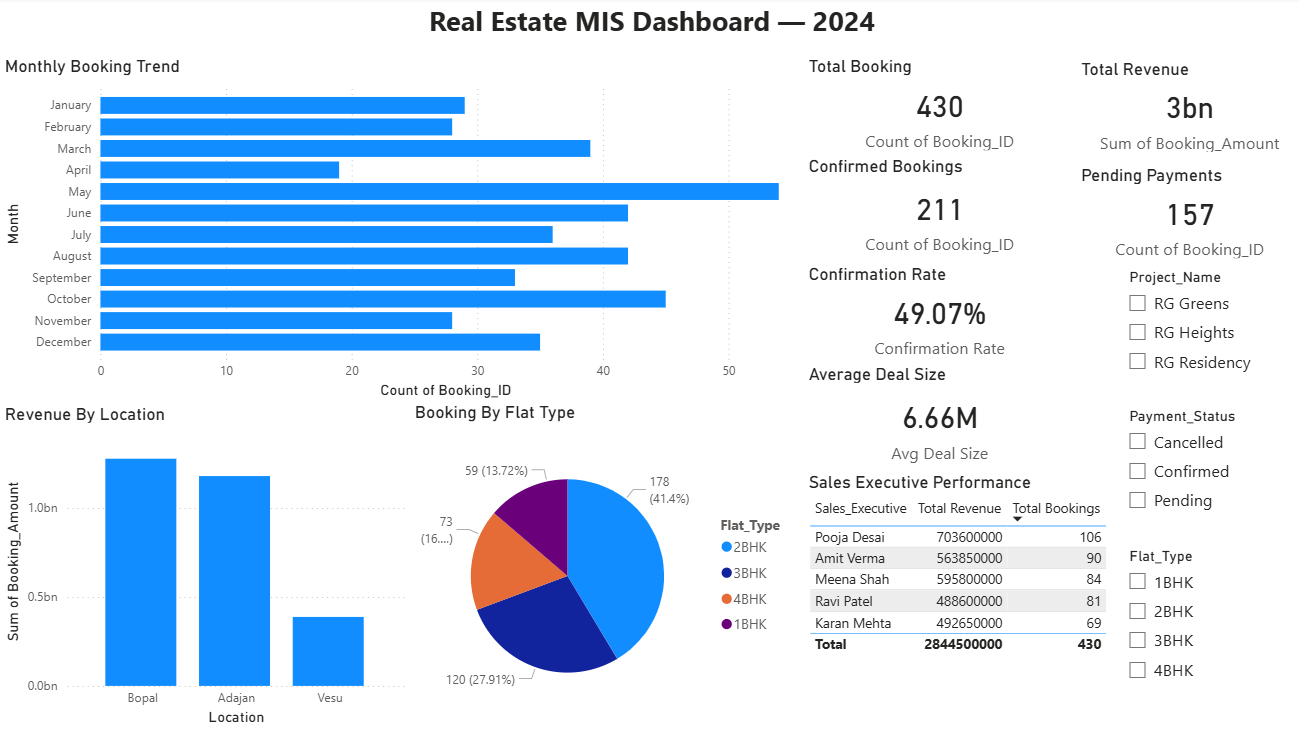

The page's visual inventory and layout, read from the dashboard file:
{"tool":"powerbi","page":{"name":"Page 1","canvas":[1280,720],"ordinal":0},"visuals":[{"type":"card","title":"Total Revenue","fields":{"Values":["Sum(Cleaned Data.Booking_Amount)"]},"box":[1018.2,59.6,261.8,97.5],"z":0},{"type":"card","title":"Total Booking","fields":{"Values":["CountNonNull(Cleaned Data.Booking_ID)"]},"box":[765.1,58.2,254.5,97.5],"z":1000},{"type":"card","title":"Confirmed Bookings ","fields":{"Values":["CountNonNull(Cleaned Data.Booking_ID)"]},"box":[757.8,162.9,293.8,97.5],"z":2000},{"type":"card","title":"Pending Payments","fields":{"Values":["CountNonNull(Cleaned Data.Booking_ID)"]},"box":[1019.6,164.4,260.4,97.5],"z":3000},{"type":"clusteredBarChart","title":"Monthly Booking  Trend","fields":{"Y":["CountNonNull(Cleaned Data.Booking_ID)"],"Category":["Cleaned Data.Booking_Date.Variation.Date Hierarchy.Month"]},"box":[0,58.2,763.6,340.4],"z":4000},{"type":"pieChart","title":"Booking By Flat Type","fields":{"Category":["Cleaned Data.Flat_Type"],"Y":["CountNonNull(Cleaned Data.Booking_ID)"]},"box":[381.6,397.5,386.5,322.7],"z":5000},{"type":"clusteredColumnChart","title":"Revenue By Location","fields":{"Category":["Cleaned Data.Location"],"Y":["Sum(Cleaned Data.Booking_Amount)"]},"box":[0,398.5,402.9,321.5],"z":6000},{"type":"tableEx","title":"Sales Executive Performance ","fields":{"Values":["Cleaned Data.Sales_Executive","Sum(Cleaned Data.Booking_Amount)","Cleaned Data.Booking_ID"]},"box":[789,466.3,306.8,254],"z":7000},{"type":"slicer","fields":{"Values":["Cleaned Data.Project_Name"]},"box":[1095.7,261.4,184.1,137.4],"z":8000},{"type":"slicer","fields":{"Values":["Cleaned Data.Payment_Status"]},"box":[1095.7,397.5,184.1,137.4],"z":9000},{"type":"slicer","fields":{"Values":["Cleaned Data.Flat_Type"]},"box":[1095.7,535,184.1,185.3],"z":10000},{"type":"textbox","box":[0,0,1280,58.2],"z":11000},{"type":"card","title":"Confirmation Rate","fields":{"Values":["Cleaned Data.Confirmation Rate"]},"box":[763.2,262.6,293.3,96.9],"z":11003},{"type":"card","title":"Average Deal Size","fields":{"Values":["Sum(Cleaned Data.Avg Deal Size)"]},"box":[768.1,369.3,288.3,96.9],"z":11004}]}

Visuals, with their boxes in screenshot pixels (x1, y1, x2, y2), scaled from the page's 1280x720 canvas onto the 1299x729 screenshot:
"Total Revenue" card: crop(1033, 60, 1298, 159)
"Total Booking" card: crop(776, 59, 1035, 158)
"Confirmed Bookings " card: crop(769, 165, 1067, 264)
"Pending Payments" card: crop(1035, 166, 1298, 265)
"Monthly Booking  Trend" clusteredBarChart: crop(0, 59, 775, 404)
"Booking By Flat Type" pieChart: crop(387, 402, 780, 728)
"Revenue By Location" clusteredColumnChart: crop(0, 403, 409, 728)
"Sales Executive Performance " tableEx: crop(801, 472, 1112, 728)
slicer - Cleaned Data.Project_Name: crop(1112, 265, 1298, 404)
slicer - Cleaned Data.Payment_Status: crop(1112, 402, 1298, 542)
slicer - Cleaned Data.Flat_Type: crop(1112, 542, 1298, 728)
textbox: crop(0, 0, 1298, 59)
"Confirmation Rate" card: crop(775, 266, 1072, 364)
"Average Deal Size" card: crop(780, 374, 1072, 472)
